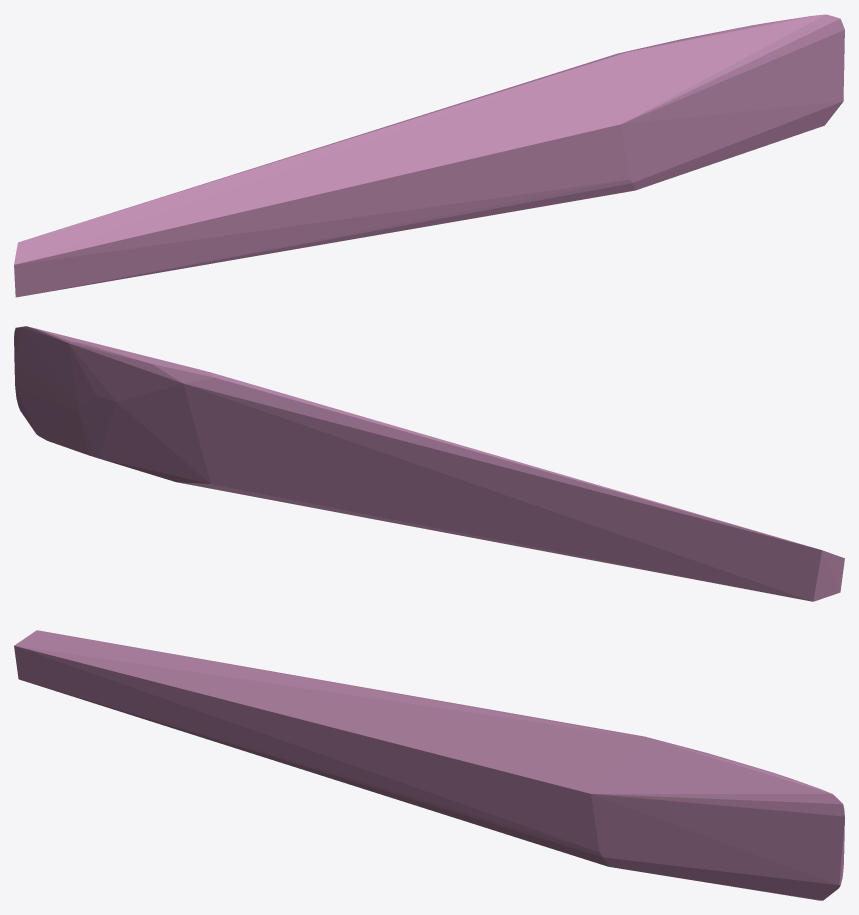
The model's file is utensil_spatula_silicone_d01.glb.
3 views of the same model, one above another, from view 1: azimuth 30°, elevation 25°; view 2: azimuth 150°, elevation 25°; view 3: azimuth 330°, elevation 25° (orthographic).
Visible parts, largest first — view 1: geometry_0; view 2: geometry_0; view 3: geometry_0.
Part boxes in pixels (x1,y1,x2,y2): geometry_0: [14, 14, 844, 297]; geometry_0: [14, 326, 844, 601]; geometry_0: [14, 630, 844, 900].
Size of the model in its own units: 0.4777 by 0.064 by 0.0327.
